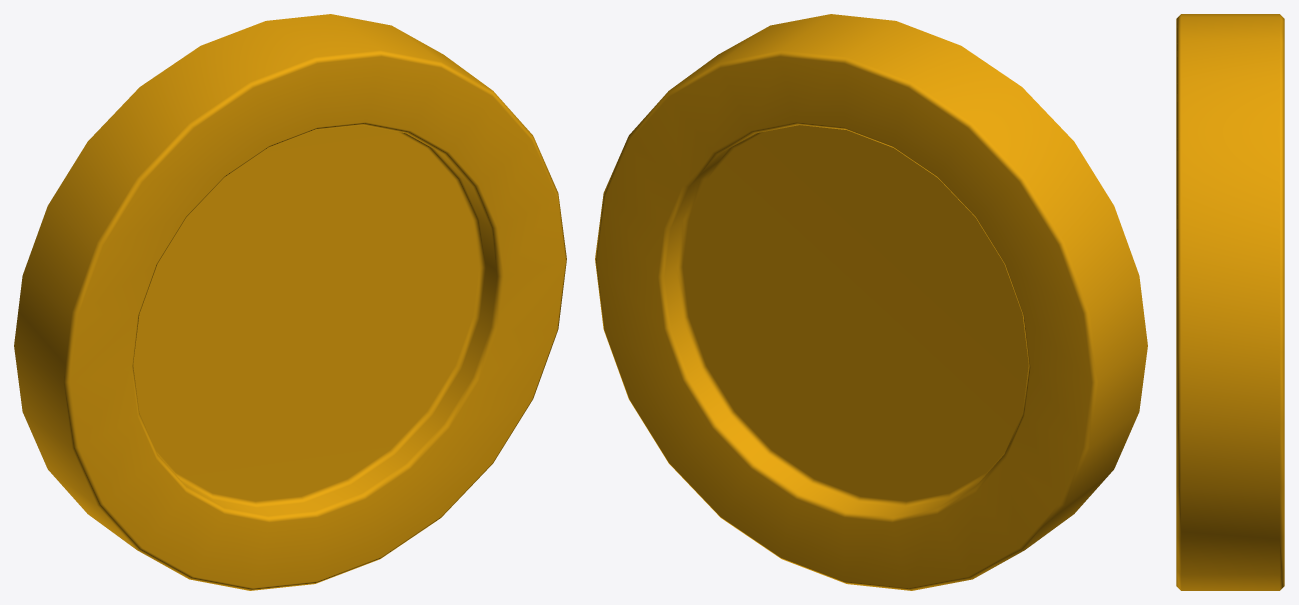
File: coin.fbx
3 renders of one model, left to right at view 1: azimuth 30°, elevation 25°; view 2: azimuth 150°, elevation 25°; view 3: azimuth 270°, elevation 25°, orthographic.
Parts seen in each view (by area): view 1: coin; view 2: coin; view 3: coin.
Boxes of the visible parts, bbox=[...] form: coin: bbox=[14, 14, 566, 590]; coin: bbox=[595, 14, 1147, 590]; coin: bbox=[1176, 14, 1284, 590].
Size of the model in its own units: 80 by 80 by 15.
